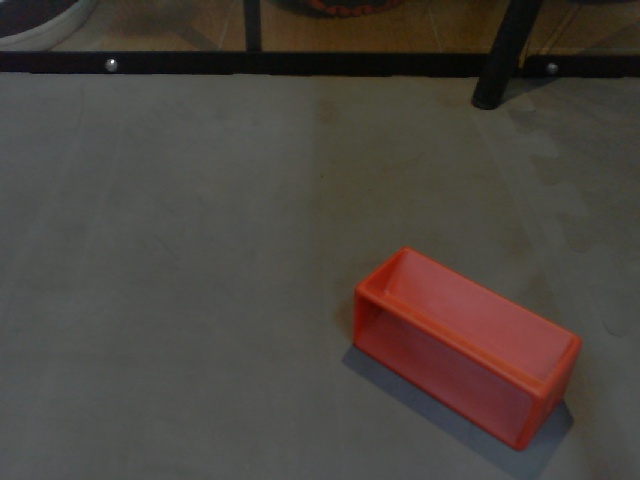RedSample: (351, 244, 583, 452)
